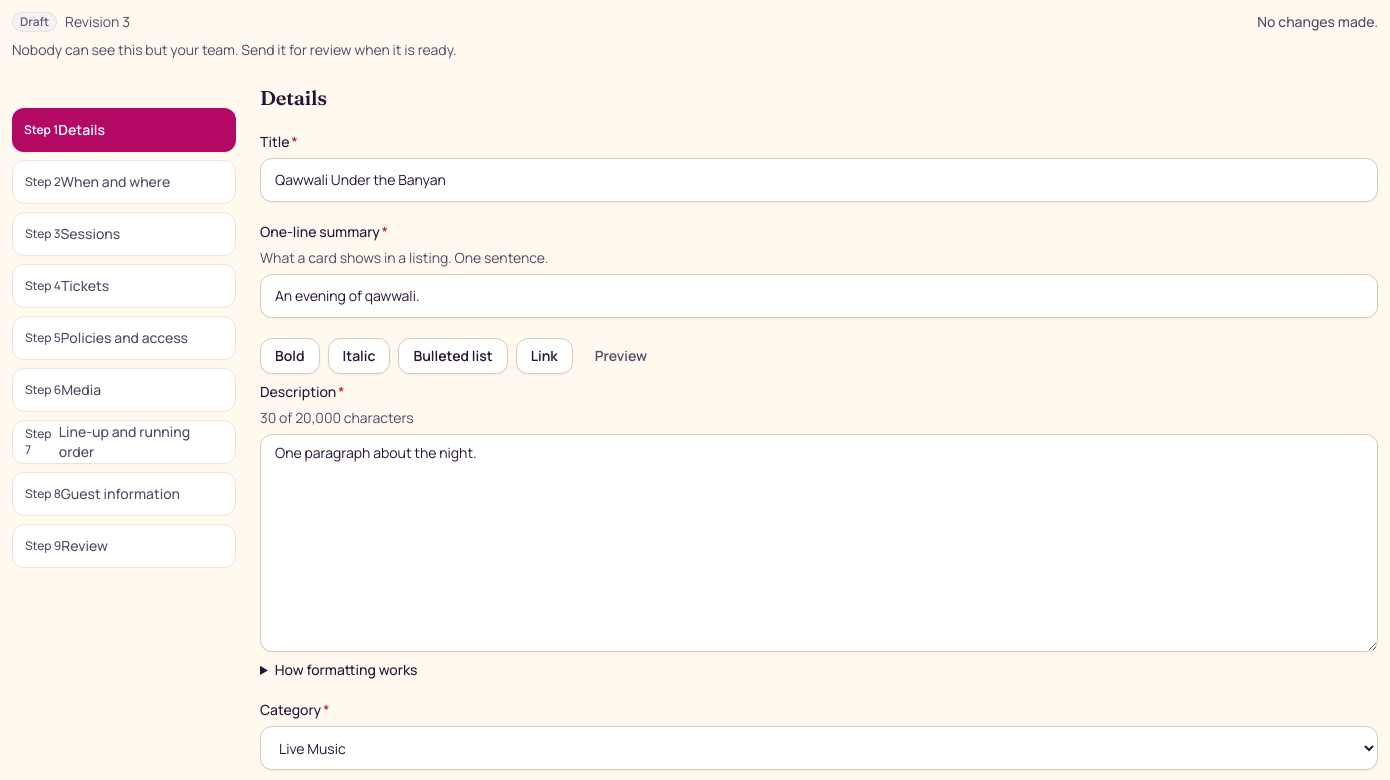
Scenario: the steps › say the pictures could not be read, rather than that there are none
Click the button "Step 6 Media". click: coordinates (124, 390)
box: [12,368,236,412]
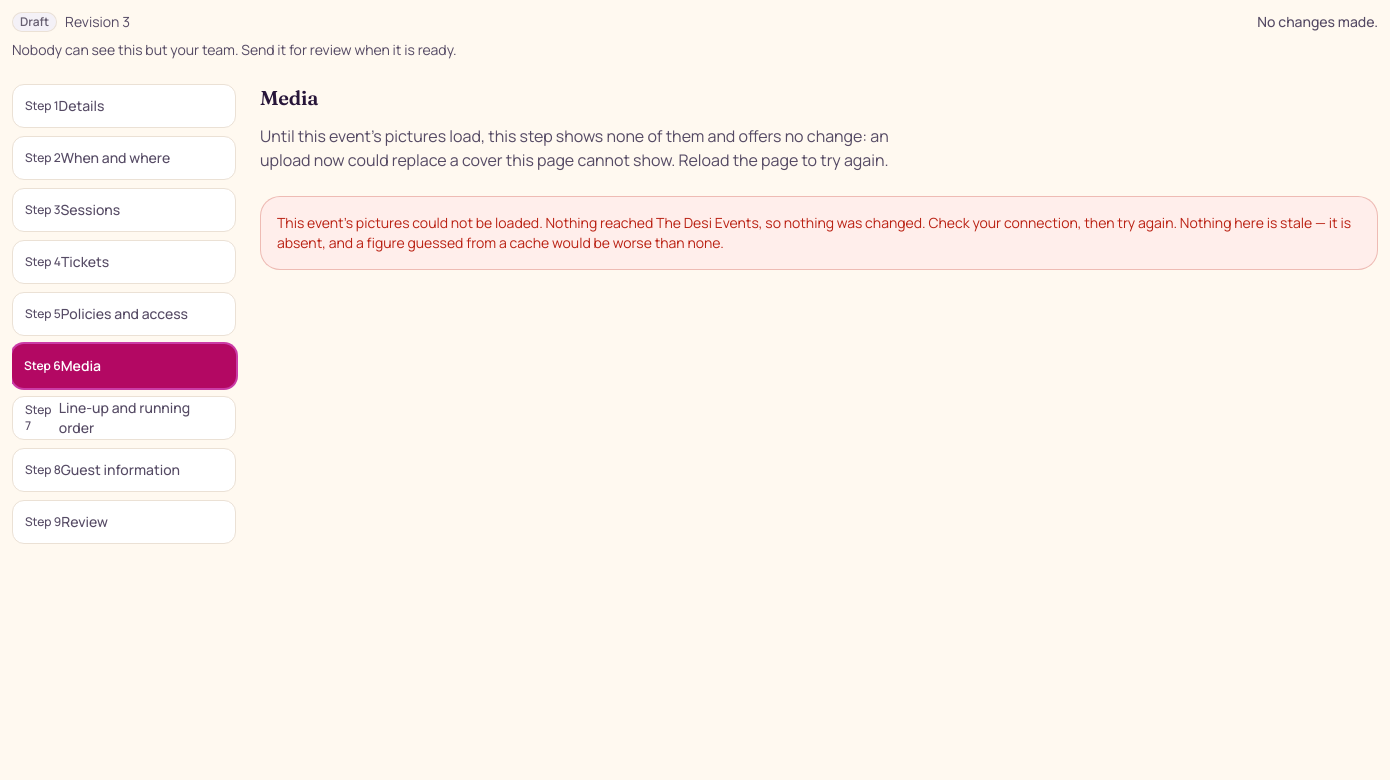
Check: the text "Until this event’s pictures load" is shown, box [260,125,889,171]
Check: the text "This event’s pictures could not be loaded" is shown, box [260,196,1378,270]
